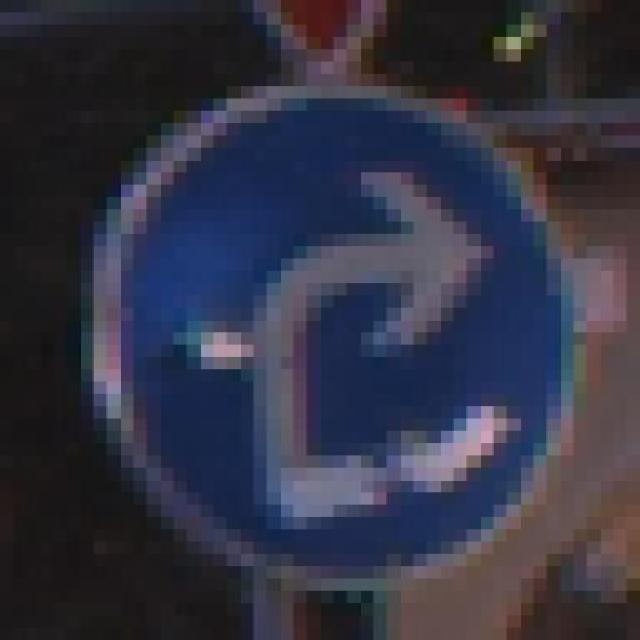Turn right ahead: (79, 74, 587, 603)
